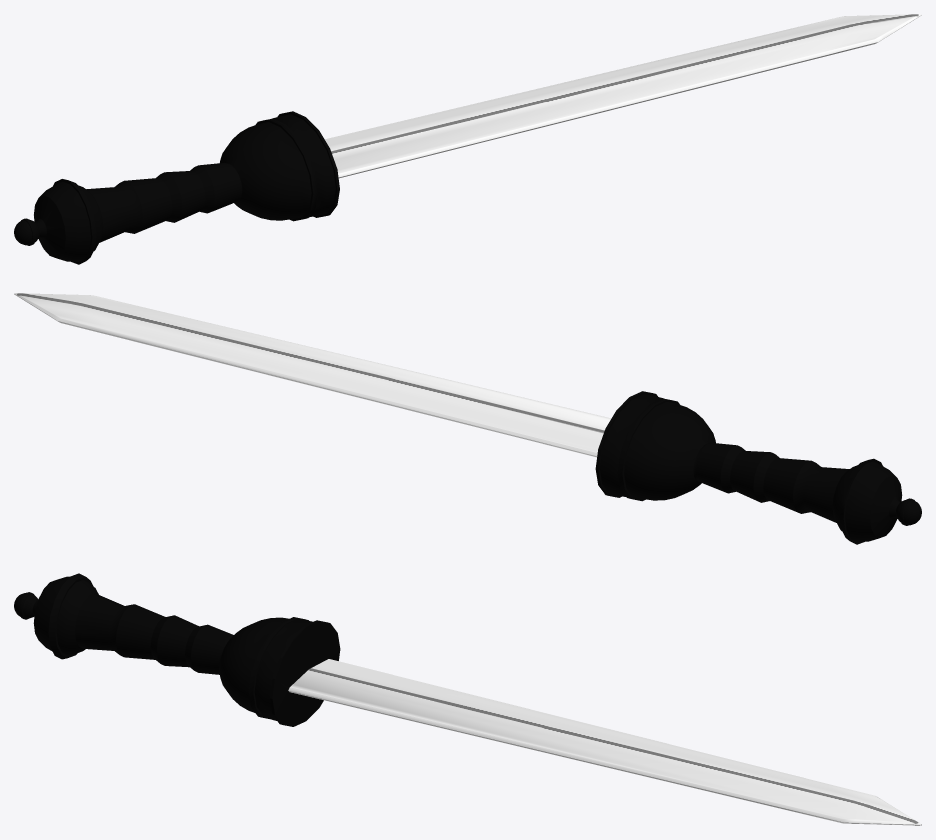
The model's file is sword.obj.
3 renders of one model, top to bottom at view 1: azimuth 30°, elevation 25°; view 2: azimuth 150°, elevation 25°; view 3: azimuth 330°, elevation 25°, orthographic.
Parts seen in each view (by area): view 1: Sword_obj; view 2: Sword_obj; view 3: Sword_obj.
Part boxes in pixels (<box>): Sword_obj: <box>14,14,921,264</box>; Sword_obj: <box>14,293,921,544</box>; Sword_obj: <box>14,573,921,825</box>.
Size of the model in its own units: 8.17 by 0.8127 by 1.06.
Materials: 1 (1 with a texture image).
